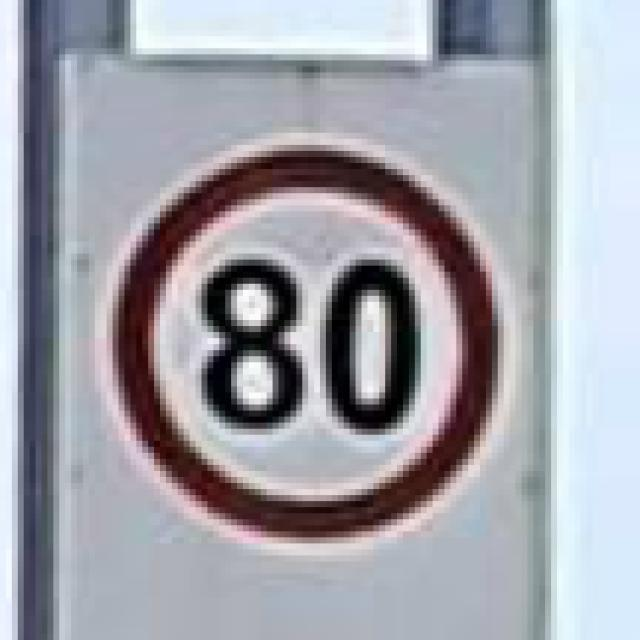speed limit 80: (103, 138, 505, 551)
